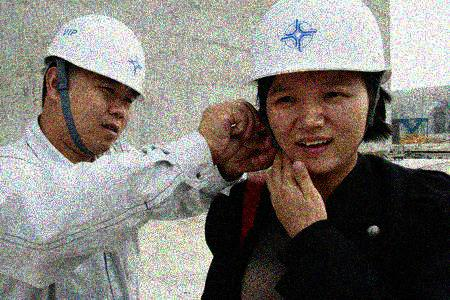helmet: (243, 1, 393, 176), (37, 12, 151, 154)
